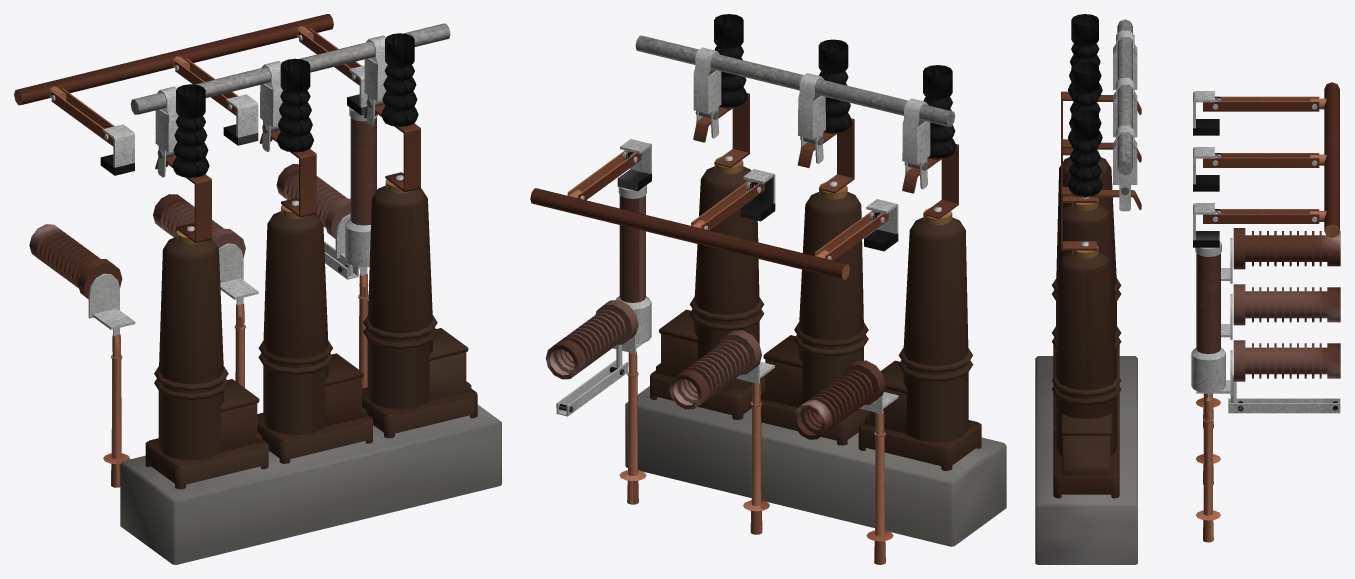
The model's file is cell_cut (1).fbx.
The picture shows the model from 3 angles, left to right: view 1: azimuth 30°, elevation 25°; view 2: azimuth 150°, elevation 25°; view 3: azimuth 270°, elevation 25°; orthographic projection. The views are drawn at different scales.
Parts seen in each view (by area): view 1: sag_on_faz, arka_sag_faz, arka_sag_toprak, sag_on_toprak; view 2: sag_on_faz, arka_sag_faz, sag_on_toprak, arka_sag_toprak; view 3: sag_on_faz, arka_sag_faz, arka_sag_toprak, sag_on_toprak.
Part boxes in pixels (x1,y1,x2,y2): sag_on_faz: (120,33,501,564); arka_sag_faz: (29,65,377,487); arka_sag_toprak: (14,14,361,146); sag_on_toprak: (130,23,450,177); sag_on_faz: (625,14,1006,546); arka_sag_faz: (545,139,898,564); sag_on_toprak: (635,35,955,189); arka_sag_toprak: (530,150,888,279); sag_on_faz: (1035,14,1141,564); arka_sag_faz: (1191,91,1340,542); arka_sag_toprak: (1203,82,1339,237); sag_on_toprak: (1113,19,1137,211).
Bounding box in the file's own units: 1335 × 1723 × 1149.
